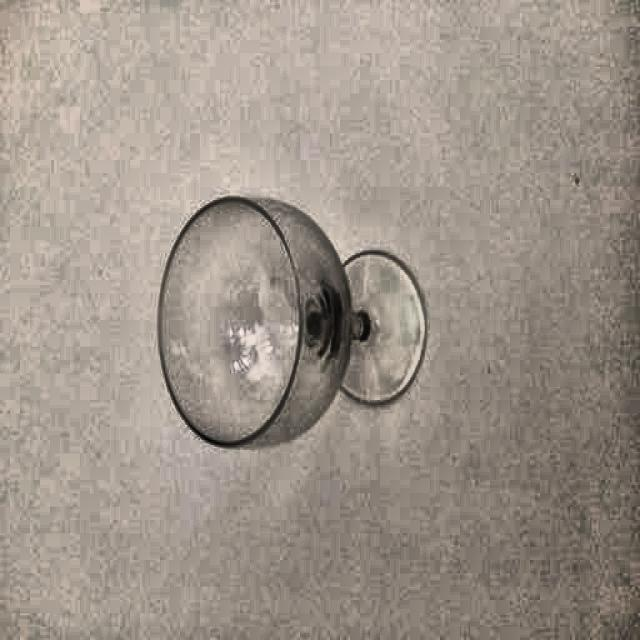glass: (162, 191, 424, 459)
